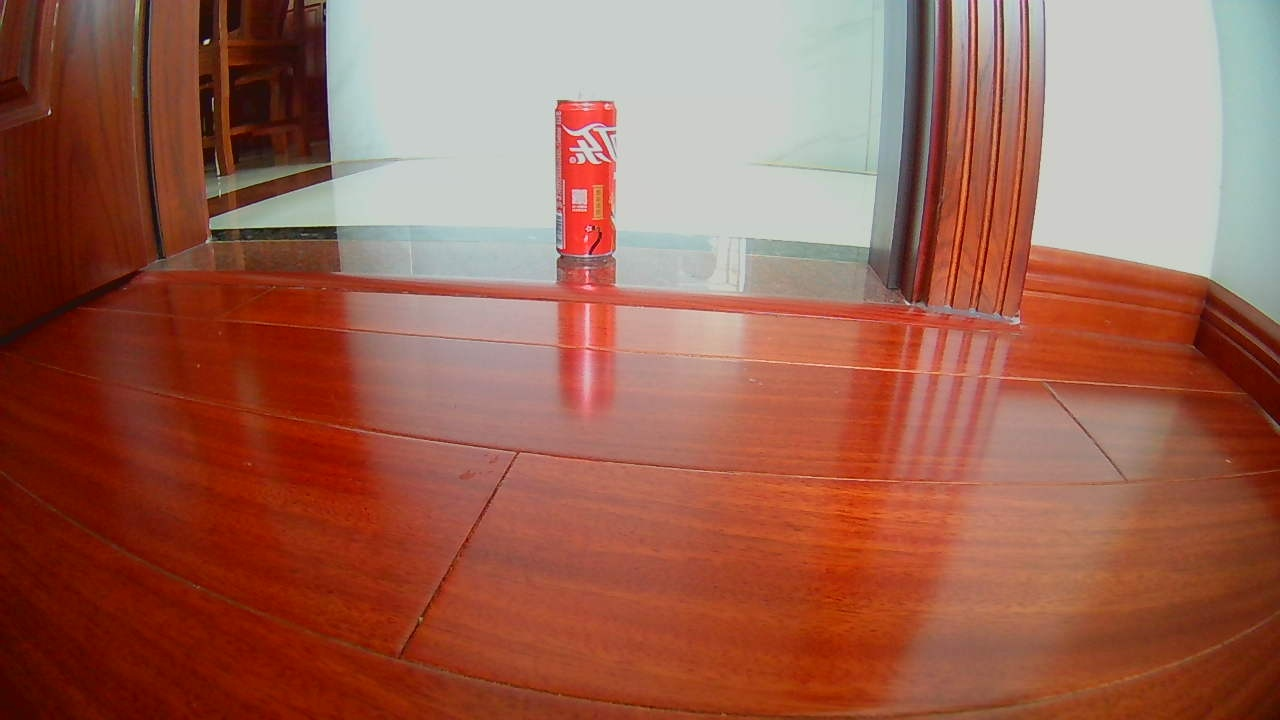cola: (551, 98, 618, 261)
